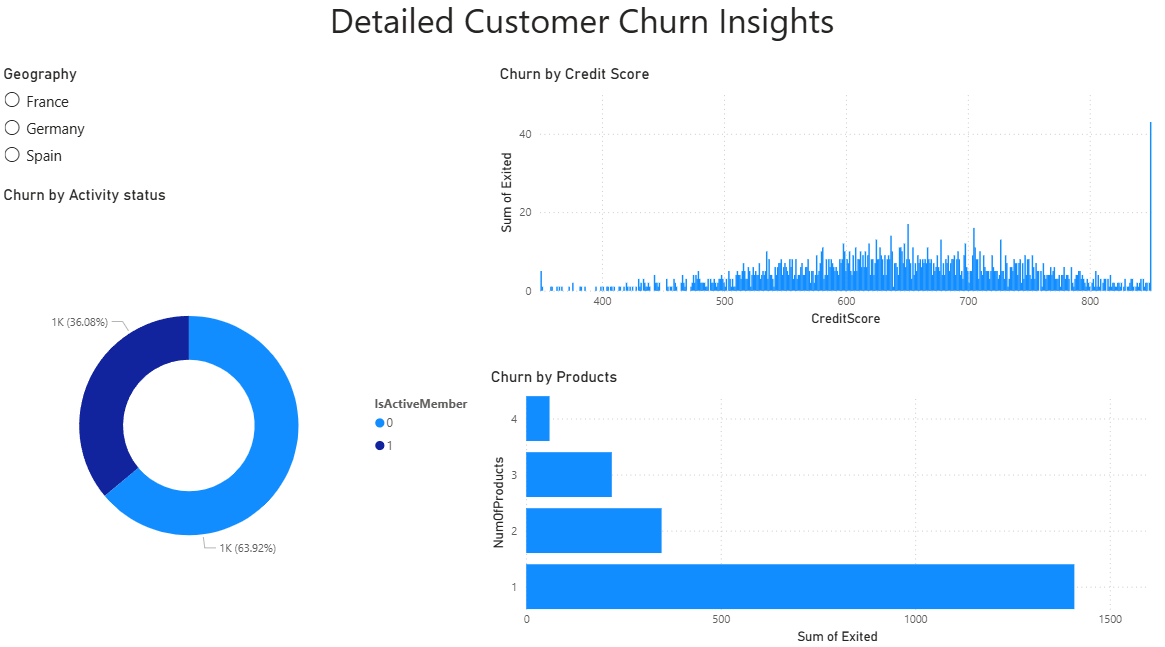

What the dashboard file says about the page in this screenshot:
{"tool":"powerbi","page":{"name":"Detailed Insights","canvas":[1280,720],"ordinal":1},"visuals":[{"type":"textbox","box":[0,0,1280.3,79.6],"z":0},{"type":"listSlicer","fields":{"Values":["European_Bank CSV.Geography"]},"box":[0,79.6,337.6,133.1],"z":1000},{"type":"clusteredBarChart","title":"Churn by Products","fields":{"Category":["European_Bank CSV.NumOfProducts"],"Y":["Sum(European_Bank CSV.Exited)"]},"box":[535.2,411.7,745.1,308.7],"z":2000},{"type":"donutChart","title":"Churn by Activity status","fields":{"Category":["European_Bank CSV.IsActiveMember"],"Y":["Sum(European_Bank CSV.Exited)"]},"box":[0,212.7,535.2,507.7],"z":3000},{"type":"clusteredColumnChart","title":"Churn by Credit Score","fields":{"Category":["European_Bank CSV.CreditScore"],"Y":["Sum(European_Bank CSV.Exited)"]},"box":[544.8,79.6,735.5,292.3],"z":4000}]}

Visuals, with their boxes in screenshot pixels (x1, y1, x2, y2), scaled from the page's 1280x720 canvas onto the 1165x647 screenshot:
textbox: [x1=0, y1=0, x2=1164, y2=72]
listSlicer - European_Bank CSV.Geography: [x1=0, y1=72, x2=307, y2=191]
"Churn by Products" clusteredBarChart: [x1=487, y1=370, x2=1164, y2=646]
"Churn by Activity status" donutChart: [x1=0, y1=191, x2=487, y2=646]
"Churn by Credit Score" clusteredColumnChart: [x1=496, y1=72, x2=1164, y2=334]
